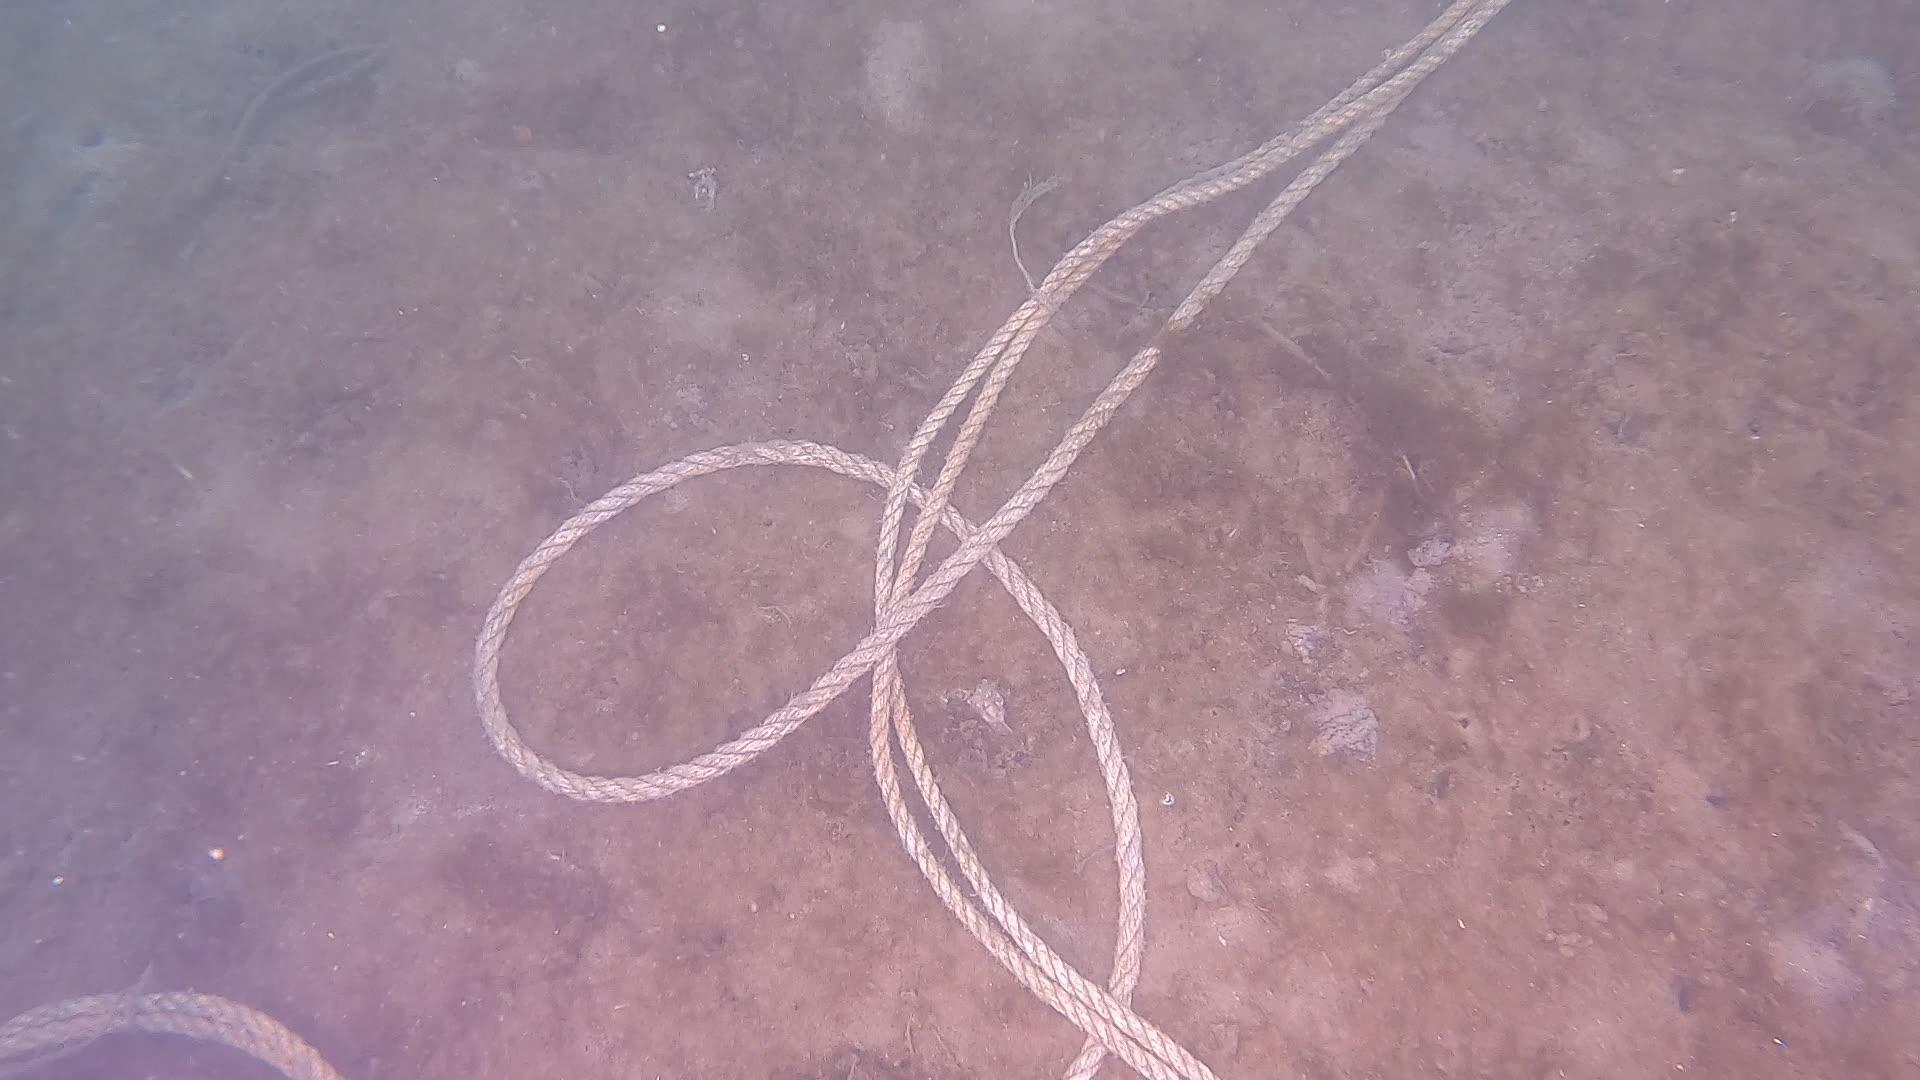bundle of ropes: (469, 3, 1510, 1080), (0, 980, 355, 1080)
